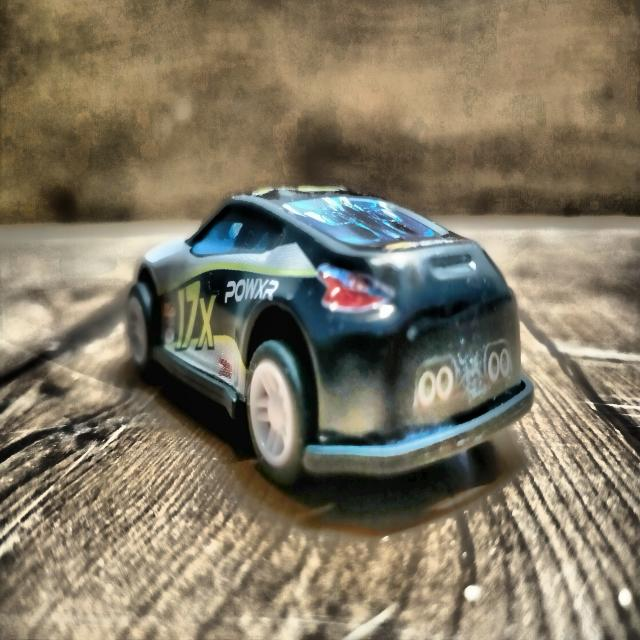Car: (126, 188, 533, 480)
